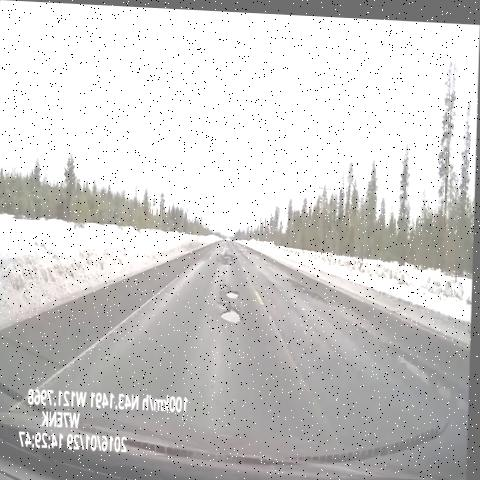pothole: (374, 338, 470, 410), (281, 262, 334, 308), (214, 290, 251, 328), (211, 242, 243, 268), (217, 284, 244, 301)
